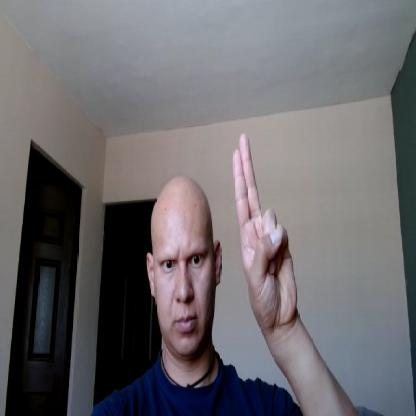U: (231, 132, 298, 330)
